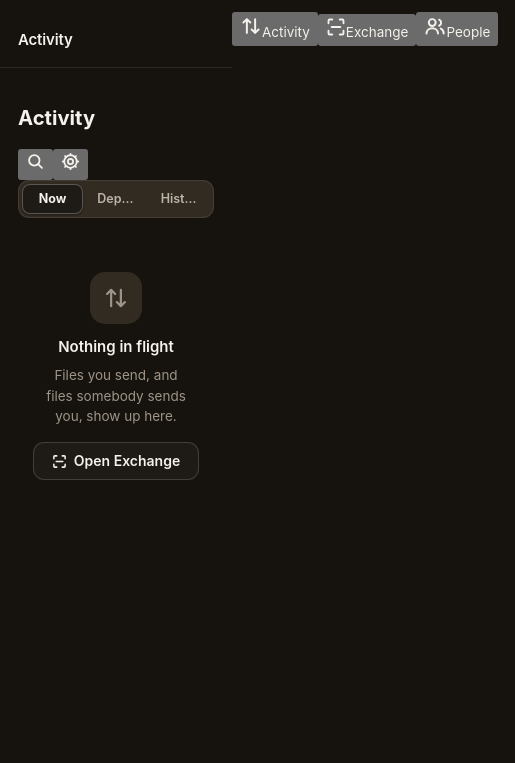
Scenario: Scambia › a face goes to «cosa» with that person, and the button says who
The width and height of the screenshot is (515, 763).
Expected: the navigation bar is shown, x1=232 y1=12 x2=498 y2=46
Click the button titled "Exchange": (367, 30) x1=318 y1=14 x2=416 y2=46
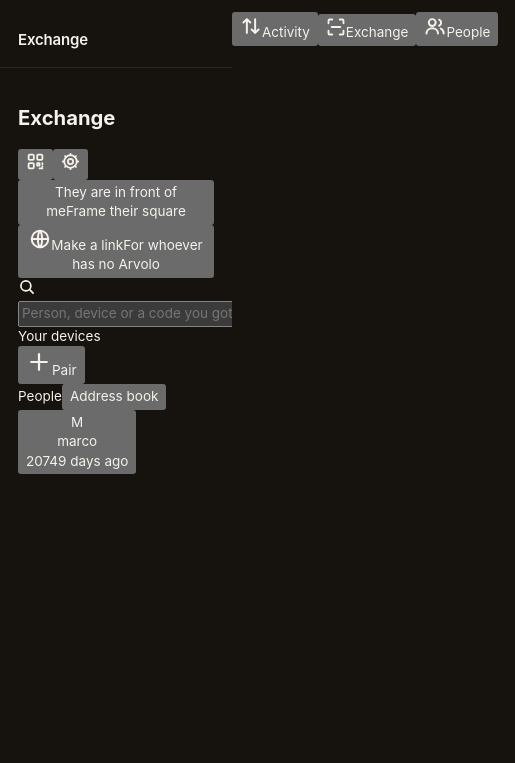
Click the text "marco": (77, 441) x1=57 y1=433 x2=97 y2=449
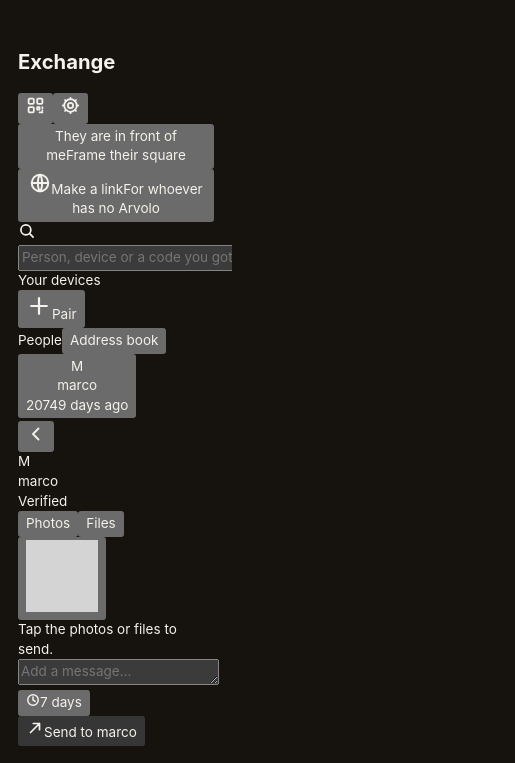
Result: the text "Tap the photos or files to send." is shown at x1=18 y1=621 x2=177 y2=657
